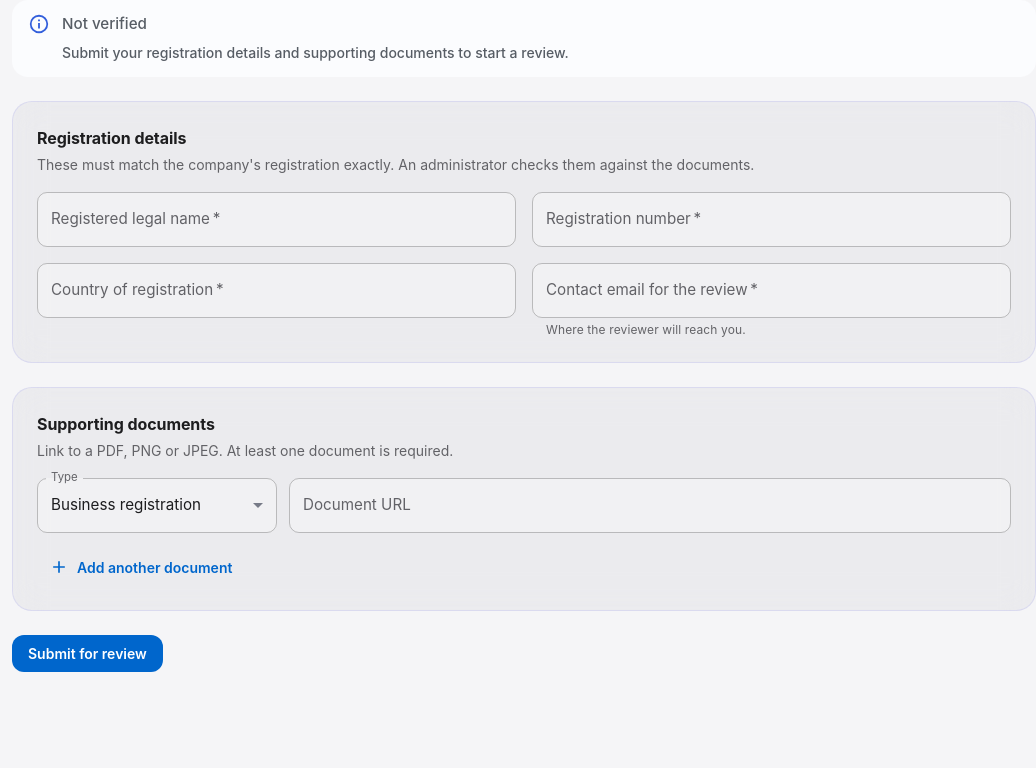
the verification form › distinguishes the delete control of one document from another
Expected: the text "Not verified" is shown, [62,14,147,33]
Click the button "Add another document" at [143, 567], box [37,549,248,586]
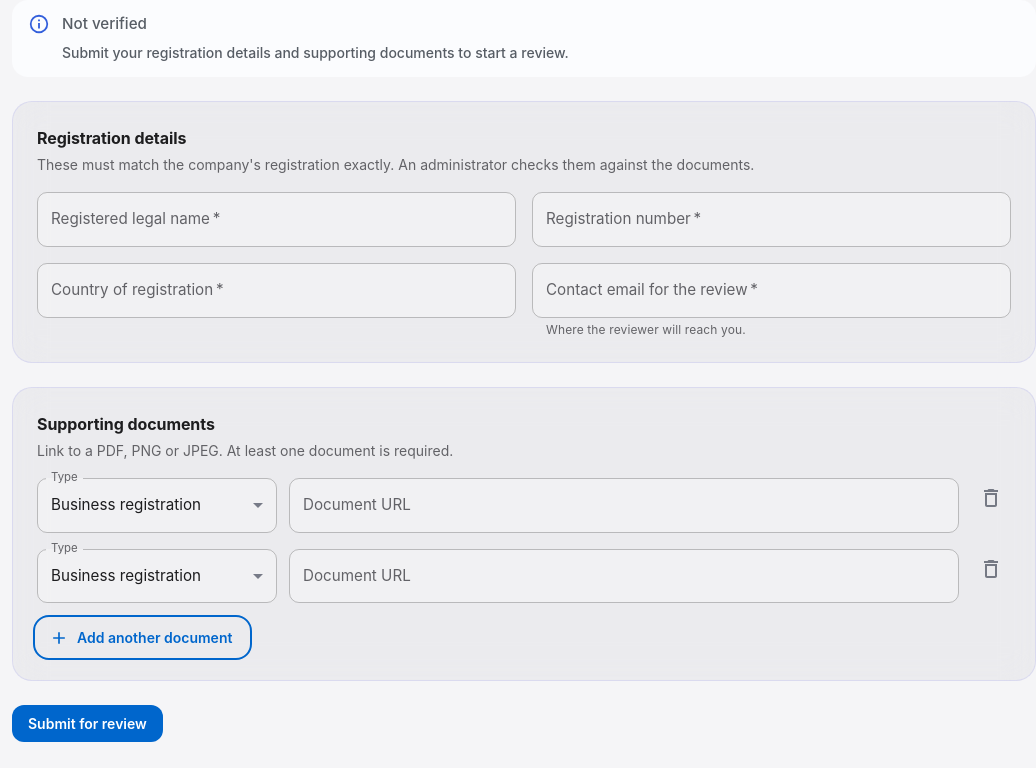
Now the button named "Remove document 1" is shown, box [971,478,1011,518]
Now the button named "Remove document 2" is shown, box [971,549,1011,589]
